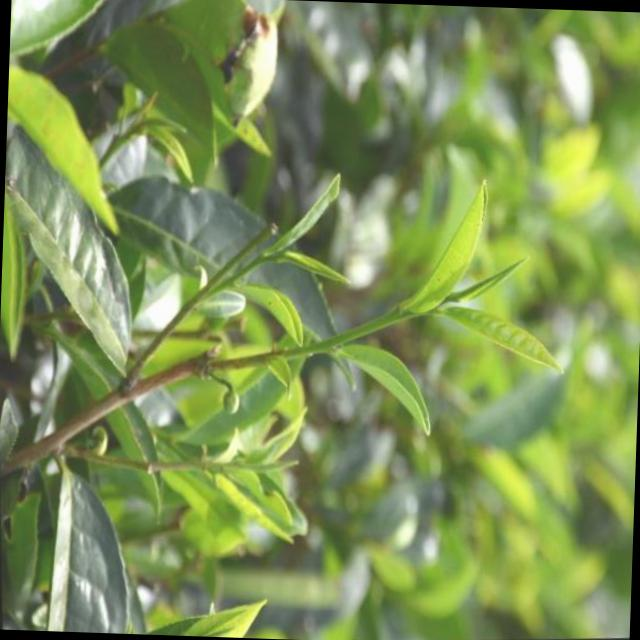Stem: (363, 308, 400, 332), (243, 253, 265, 273)
